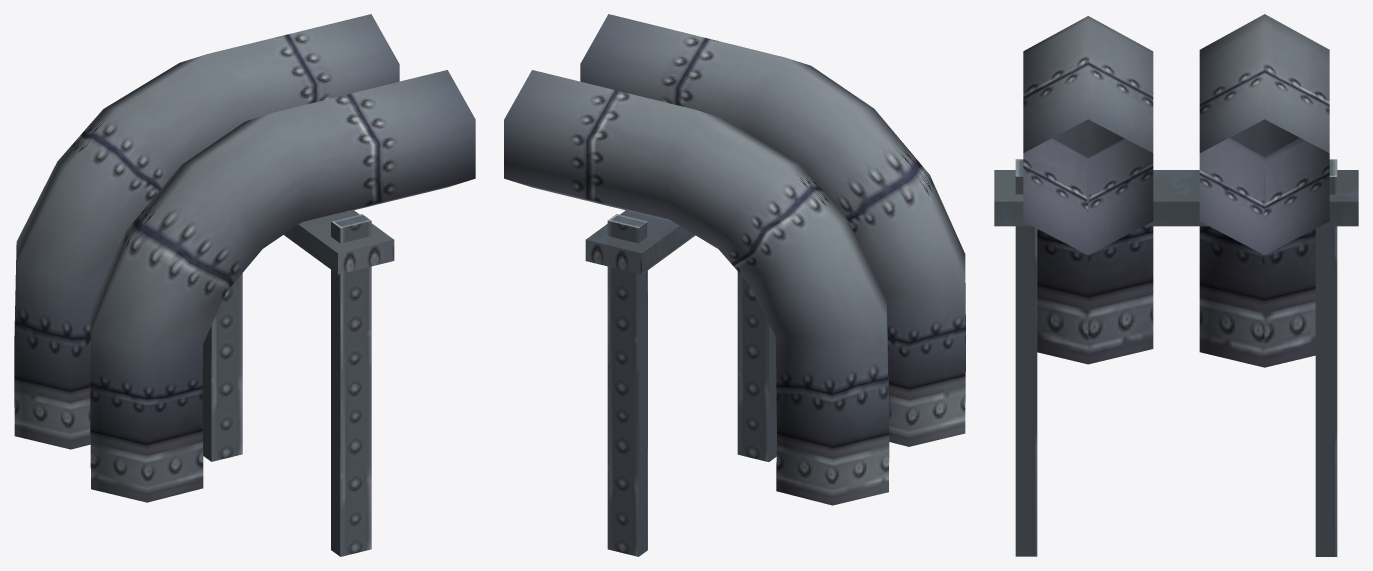
File: Pipe1C.fbx
3 renders of one model, left to right at view 1: azimuth 30°, elevation 25°; view 2: azimuth 150°, elevation 25°; view 3: azimuth 270°, elevation 25°, orthographic. The views are drawn at different scales.
Parts seen in each view (by area): view 1: polySurface1619; view 2: polySurface1619; view 3: polySurface1619.
Part boxes in pixels (box(x1,y1,x2,y2)): polySurface1619: box(14, 14, 475, 556); polySurface1619: box(504, 14, 965, 556); polySurface1619: box(994, 14, 1358, 556).
Bounding box in the file's own units: 4 × 4.61 × 3.06.
